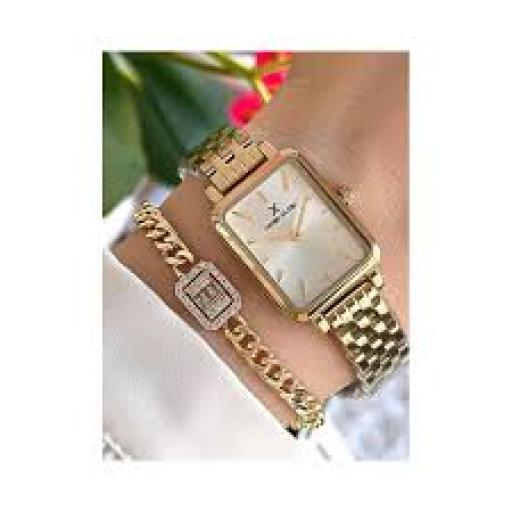KolSaati: (152, 119, 407, 396)
